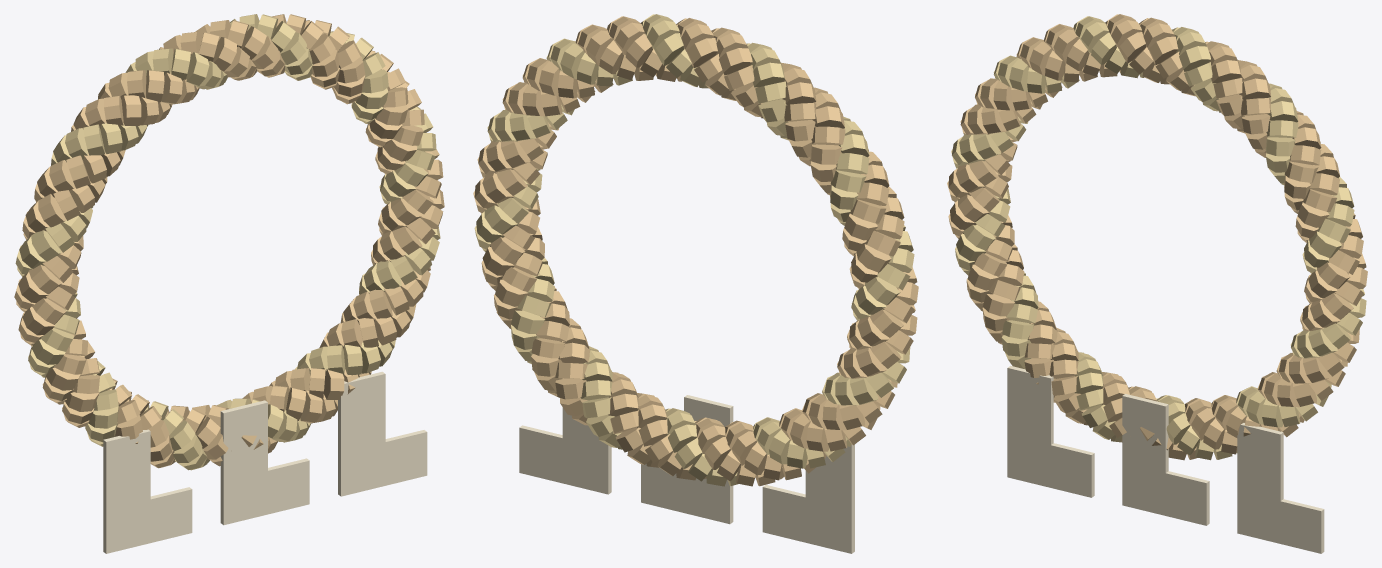
Rendered from ritual_shimenawa.glb.
3 views of the same model, side by side, from view 1: azimuth 30°, elevation 25°; view 2: azimuth 150°, elevation 25°; view 3: azimuth 330°, elevation 25° (orthographic). The views are drawn at different scales.
Visible parts, largest first — view 1: Shimenawa white shide, Shimenawa white shide.002, Shimenawa white shide.001, Twisted rice straw rope_52.002, Twisted rice straw rope_55.001, Twisted rice straw rope_49, Twisted rice straw rope_58, Twisted rice straw rope_41.002, Twisted rice straw rope_31.002, Twisted rice straw rope_34.001, Twisted rice straw rope_44.001, Twisted rice straw rope_100.002 (+13 smaller); view 2: Shimenawa white shide, Shimenawa white shide.002, Shimenawa white shide.001, Twisted rice straw rope_34.002, Twisted rice straw rope_37.001, Twisted rice straw rope_40, Twisted rice straw rope_31, Twisted rice straw rope_58.001, Twisted rice straw rope_55.002, Twisted rice straw rope_28.001, Twisted rice straw rope_48.001, Twisted rice straw rope_109.001 (+36 smaller); view 3: Shimenawa white shide.002, Shimenawa white shide, Shimenawa white shide.001, Twisted rice straw rope_25.001, Twisted rice straw rope_22.002, Twisted rice straw rope_28, Twisted rice straw rope_19, Twisted rice straw rope_01.002, Twisted rice straw rope_04.001, Twisted rice straw rope_12.002, Twisted rice straw rope_70.002, Twisted rice straw rope_11.002 (+9 smaller).
Boxes of the visible parts, x1=… form: Shimenawa white shide: x1=103, y1=429, x2=192, y2=553; Shimenawa white shide.002: x1=338, y1=371, x2=427, y2=496; Shimenawa white shide.001: x1=220, y1=400, x2=309, y2=525; Twisted rice straw rope_52.002: x1=38, y1=194, x2=65, y2=227; Twisted rice straw rope_55.001: x1=31, y1=230, x2=61, y2=261; Twisted rice straw rope_49: x1=49, y1=160, x2=74, y2=191; Twisted rice straw rope_58: x1=29, y1=264, x2=61, y2=294; Twisted rice straw rope_41.002: x1=121, y1=95, x2=141, y2=125; Twisted rice straw rope_31.002: x1=213, y1=37, x2=236, y2=71; Twisted rice straw rope_34.001: x1=186, y1=52, x2=209, y2=85; Twisted rice straw rope_44.001: x1=100, y1=123, x2=122, y2=153; Twisted rice straw rope_100.002: x1=324, y1=369, x2=344, y2=399; Shimenawa white shide: x1=762, y1=444, x2=854, y2=553; Shimenawa white shide.002: x1=519, y1=407, x2=611, y2=494; Shimenawa white shide.001: x1=641, y1=395, x2=733, y2=524; Twisted rice straw rope_34.002: x1=719, y1=48, x2=752, y2=75; Twisted rice straw rope_37.001: x1=753, y1=62, x2=784, y2=87; Twisted rice straw rope_40: x1=782, y1=82, x2=816, y2=104; Twisted rice straw rope_31: x1=687, y1=38, x2=717, y2=67; Twisted rice straw rope_58.001: x1=865, y1=277, x2=900, y2=305; Twisted rice straw rope_55.002: x1=856, y1=244, x2=891, y2=272; Twisted rice straw rope_28.001: x1=655, y1=33, x2=683, y2=65; Twisted rice straw rope_48.001: x1=830, y1=170, x2=866, y2=192; Twisted rice straw rope_109.001: x1=511, y1=310, x2=545, y2=333; Shimenawa white shide.002: x1=1237, y1=423, x2=1324, y2=553; Shimenawa white shide: x1=1007, y1=365, x2=1094, y2=497; Shimenawa white shide.001: x1=1122, y1=394, x2=1209, y2=525; Twisted rice straw rope_25.001: x1=1179, y1=46, x2=1210, y2=71; Twisted rice straw rope_22.002: x1=1211, y1=60, x2=1241, y2=83; Twisted rice straw rope_28: x1=1149, y1=36, x2=1178, y2=65; Twisted rice straw rope_19: x1=1239, y1=78, x2=1271, y2=99; Twisted rice straw rope_01.002: x1=1317, y1=262, x2=1350, y2=288; Twisted rice straw rope_04.001: x1=1309, y1=231, x2=1341, y2=257; Twisted rice straw rope_12.002: x1=1289, y1=145, x2=1321, y2=165; Twisted rice straw rope_70.002: x1=982, y1=294, x2=1015, y2=316; Twisted rice straw rope_11.002: x1=1284, y1=161, x2=1318, y2=182.
Size of the model in its own units: 1.76 by 1.95 by 0.238.
